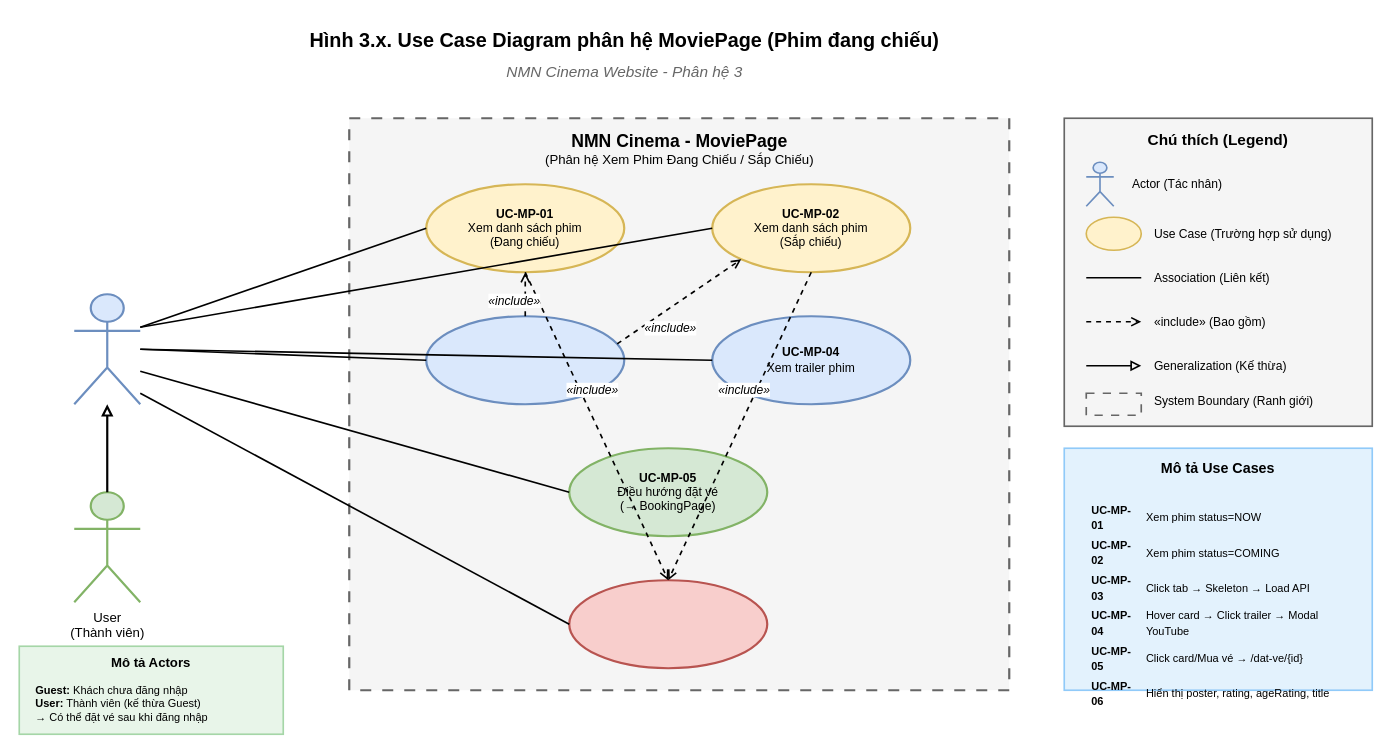
This 1393x754 diagram has some shape labels left out. The centre of each missing label's shape, as x and y in pixels:
"Guest (Khách)" goes at [107,349].
"UC-MP-03 Chuyển đổi tab (NOW / COMING)" goes at [525,360].
"UC-MP-06 Xem thông tin phim (poster, rating, nhãn tuổi)" goes at [668,624].
